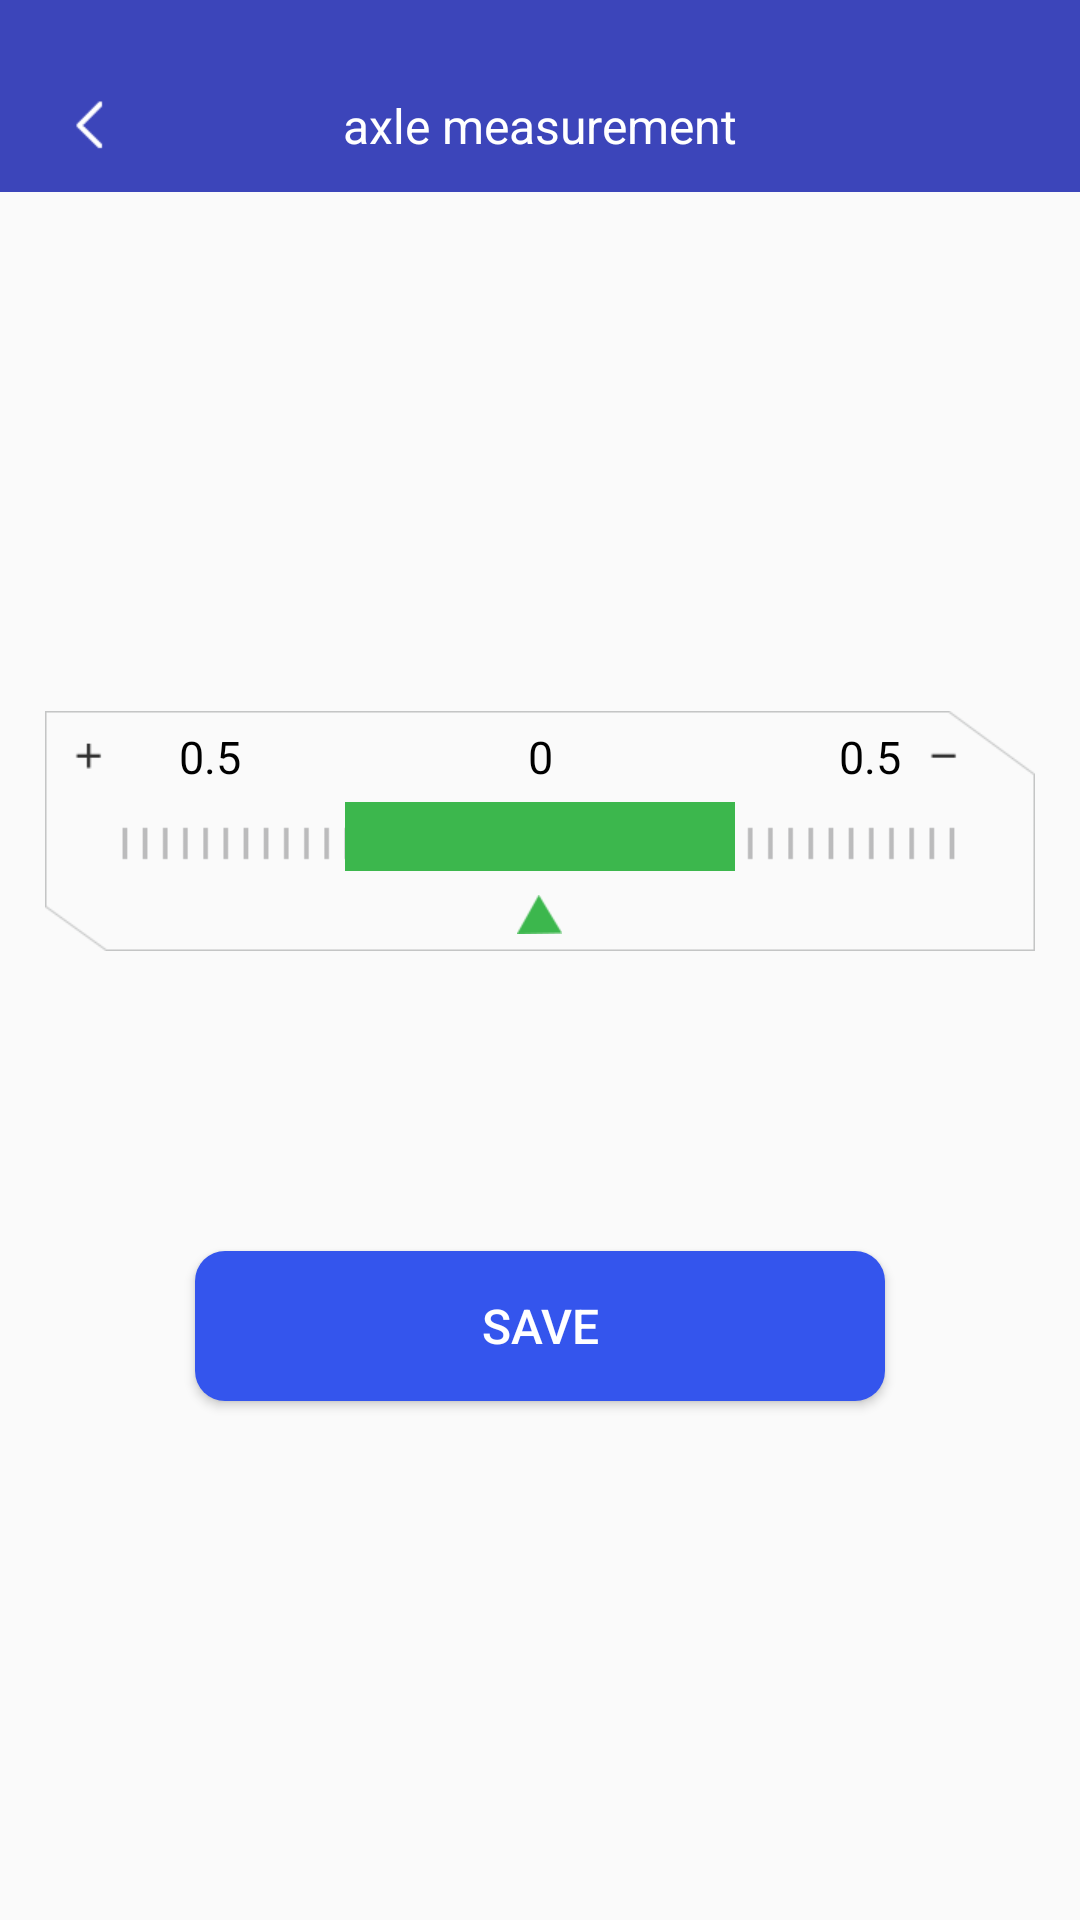

Where to tap for icons on this 1080 × 1920 app screen, as point (x, y):
back: point (89, 125)
